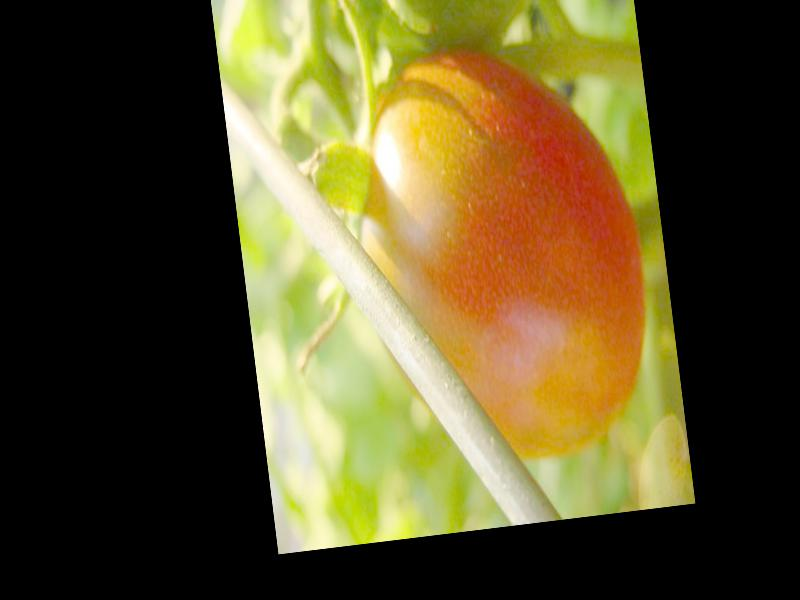Tomato: (341, 36, 663, 470)
